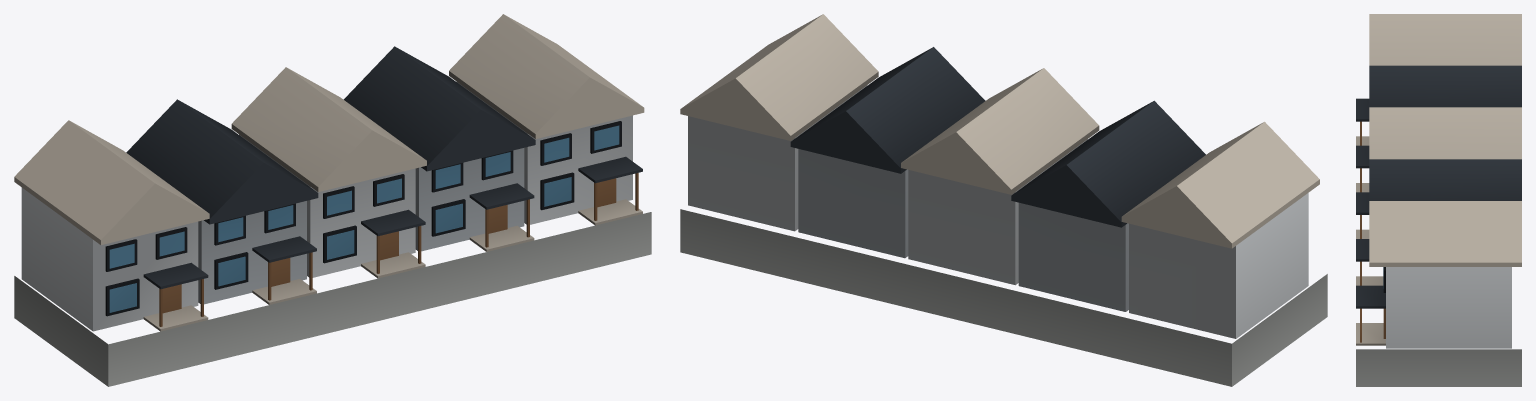
The model's file is townhouse-row.glb.
3 renders of one model, left to right at view 1: azimuth 30°, elevation 25°; view 2: azimuth 150°, elevation 25°; view 3: azimuth 270°, elevation 25°, orthographic. The views are drawn at different scales.
Visible parts, largest first — view 1: townhouse-row; view 2: townhouse-row; view 3: townhouse-row.
Boxes of the visible parts, x1=… form: townhouse-row: x1=14, y1=14, x2=651, y2=386; townhouse-row: x1=680, y1=14, x2=1327, y2=386; townhouse-row: x1=1356, y1=14, x2=1521, y2=386.
Size of the model in its own units: 40 by 13 by 12.
